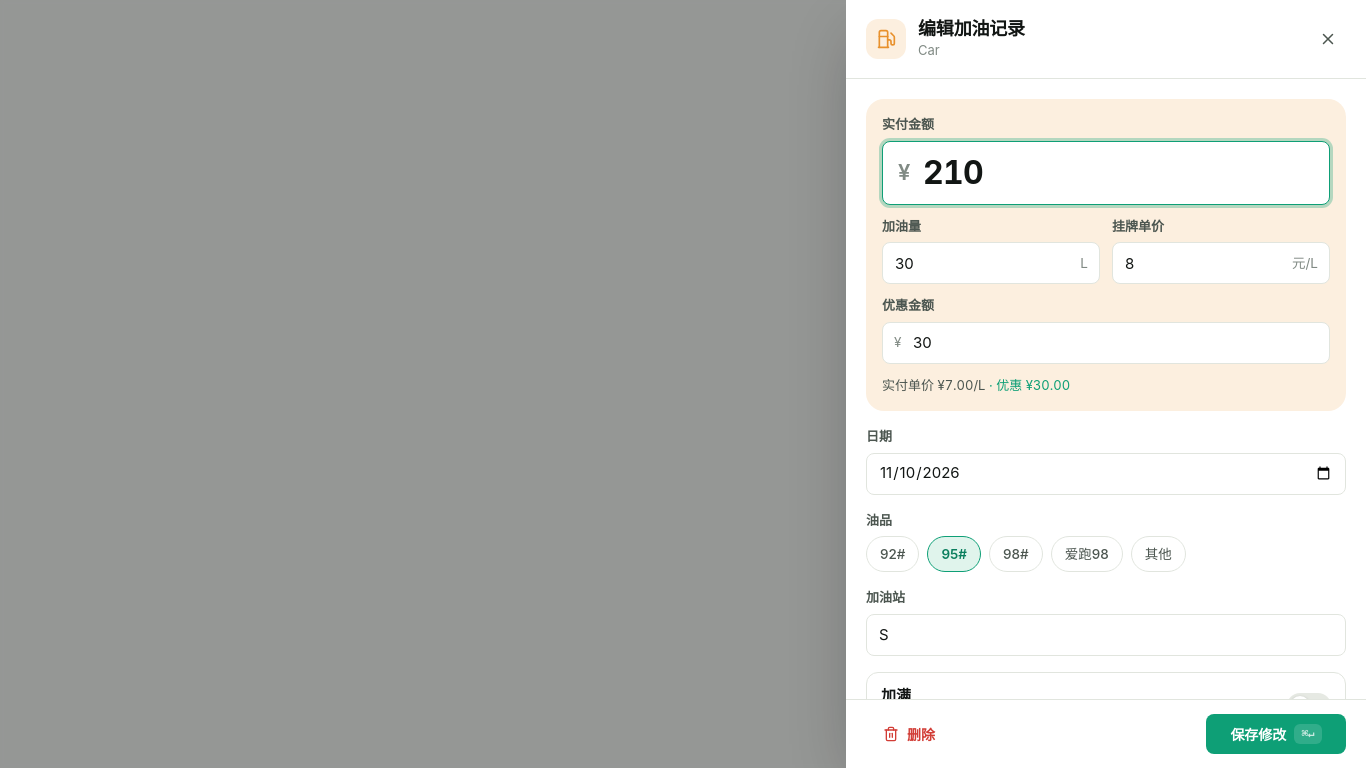
FuelEditor › preserves a discounted historical record when editing the posted price
Type "2026-11-23" into the date field labelled "日期". click: [1106, 474]
box: 866,452 -> 1346,494
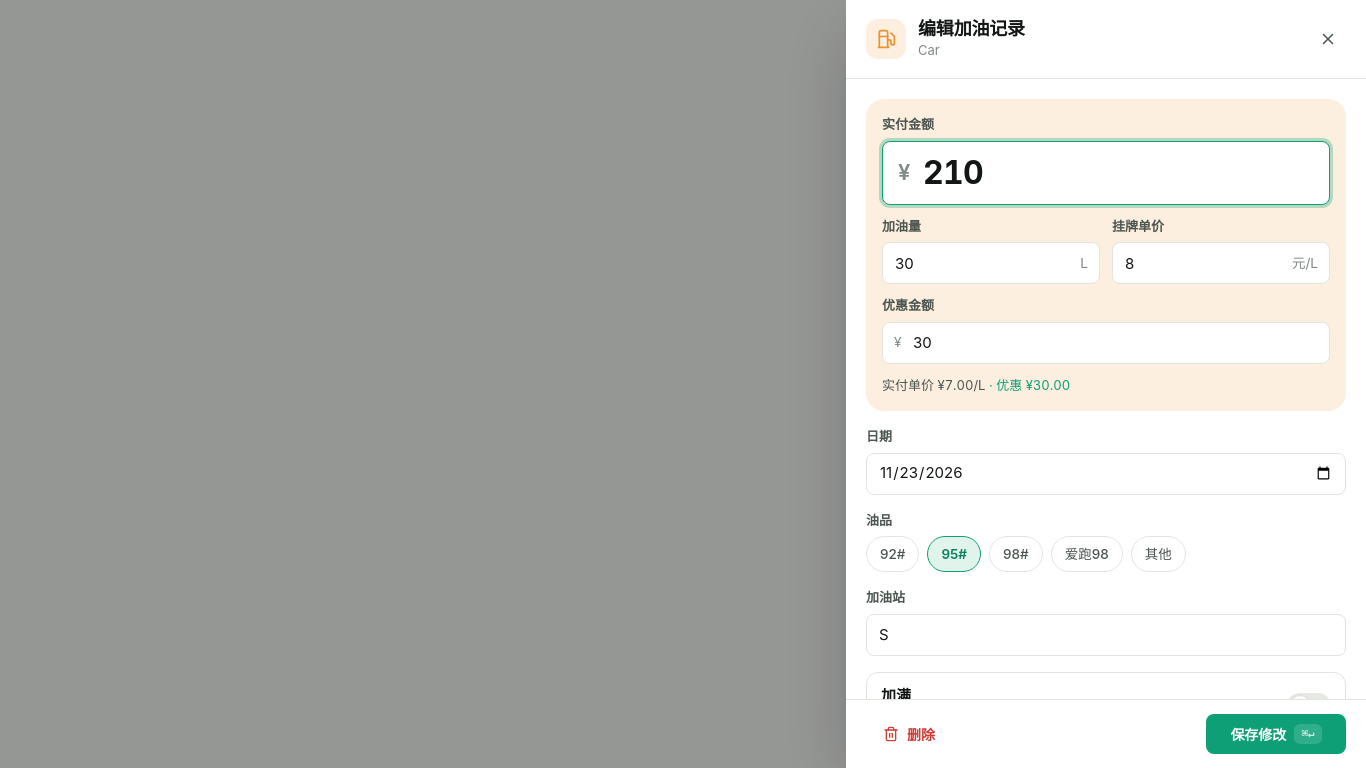
Replace the text in the number field labelled "挂牌单价" with "9". click: [1221, 263]
box: 1112,242 -> 1330,284
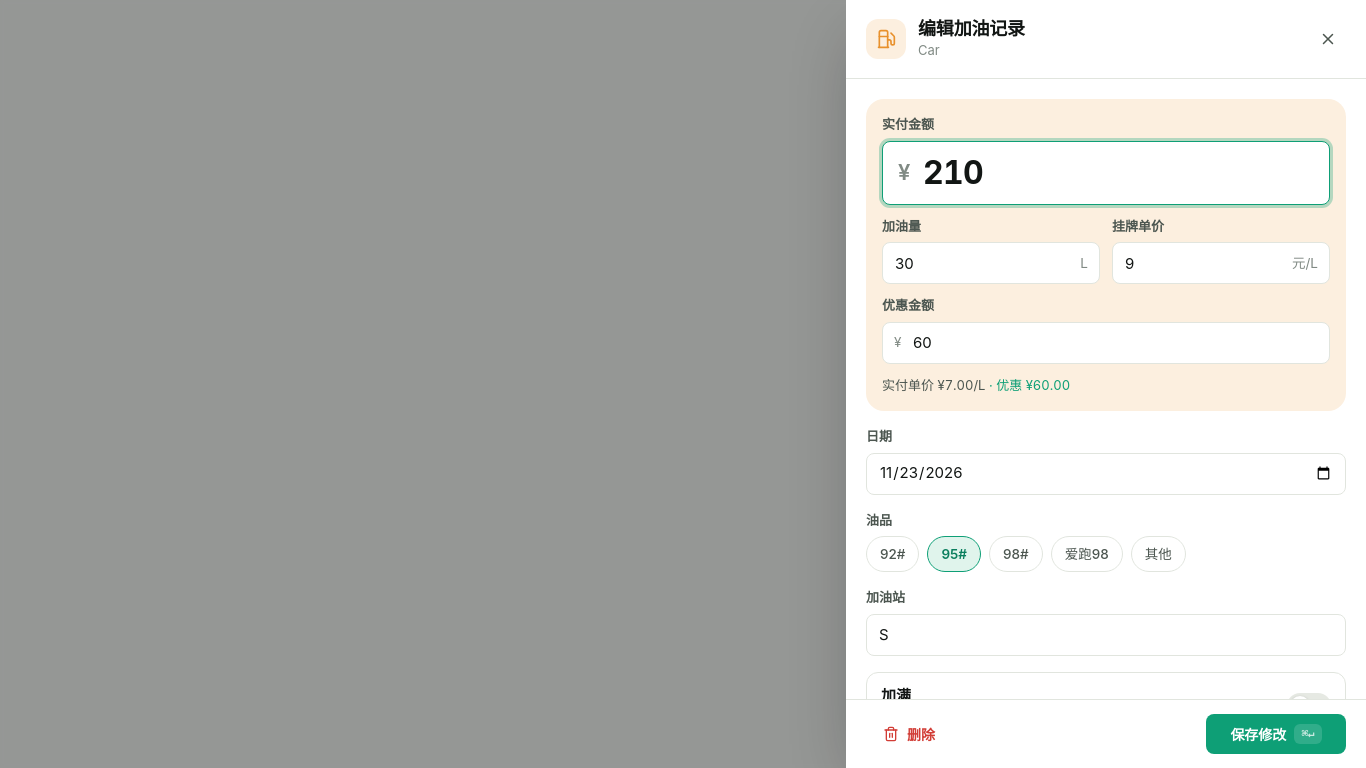
Expected: the number field labelled "实付金额" holds "210", 882,140 -> 1330,204
Expected: the number field labelled "优惠金额" holds "60", 882,322 -> 1330,364
